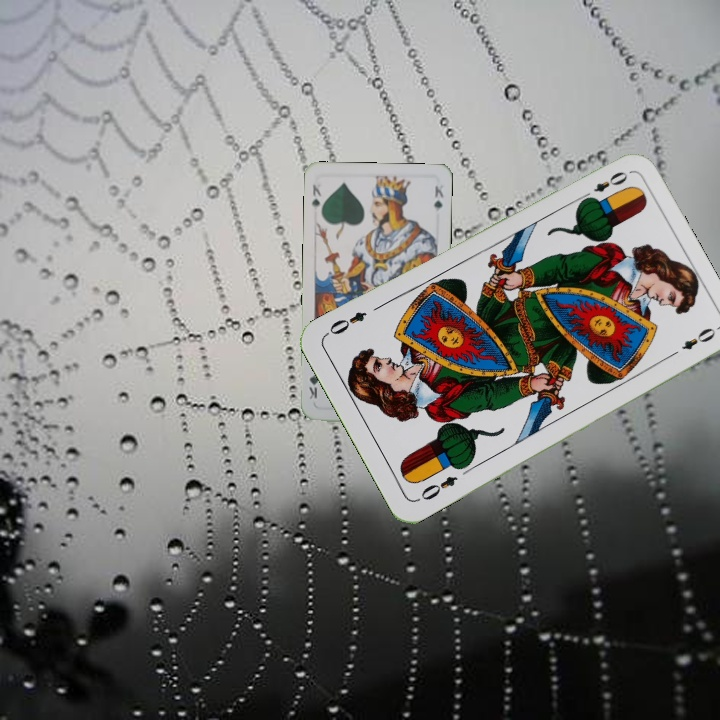EO: (577, 167, 631, 203), (416, 472, 461, 503)
GK: (308, 180, 324, 210)
